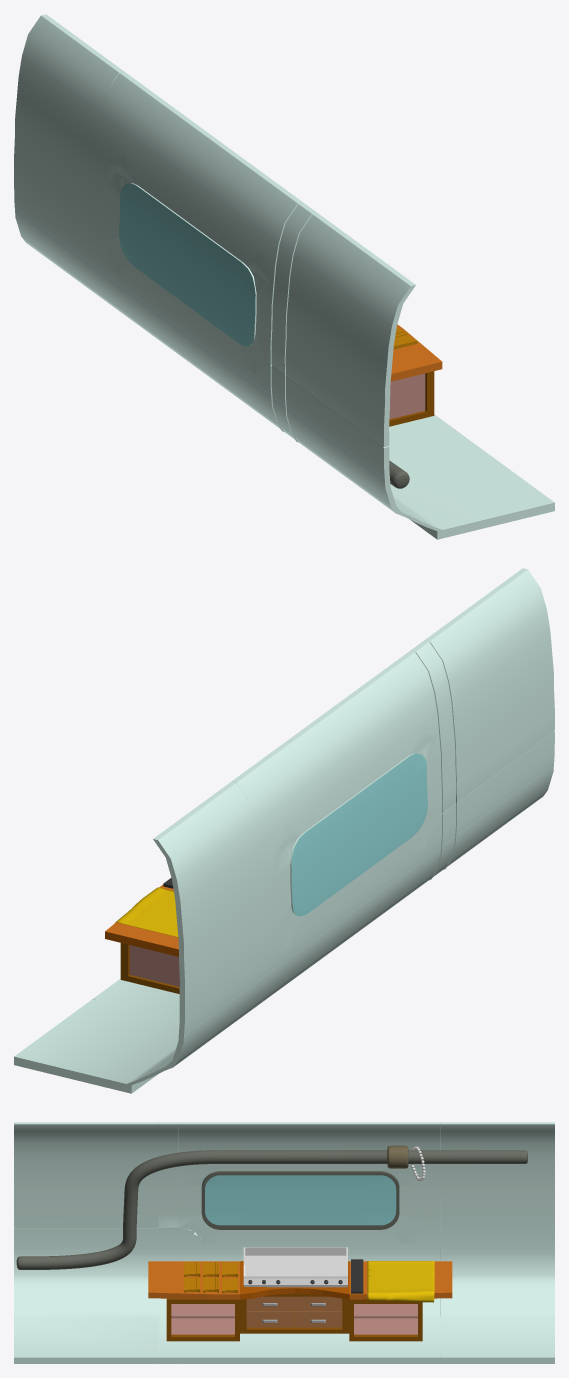
File: ESCENARIO RESTAURANTE.fbx
3 renders of one model, top to bottom at view 1: azimuth 30°, elevation 25°; view 2: azimuth 150°, elevation 25°; view 3: azimuth 270°, elevation 25°, orthographic. The views are drawn at different scales.
Parts seen in each view (by area): view 1: Submarino.001, Mesa de cocina; view 2: Submarino.001, Mesa de cocina, Mantel; view 3: Submarino.001, Mesa de cocina, Parilla, Mantel, Plane.001, Tablas de la cocina.
Boxes of the visible parts, x1,y1,x2,y2 form: Submarino.001: (14, 14, 554, 539); Mesa de cocina: (389, 324, 442, 426); Submarino.001: (14, 568, 554, 1093); Mesa de cocina: (105, 878, 179, 993); Mantel: (115, 887, 178, 937); Submarino.001: (14, 1122, 554, 1363); Mesa de cocina: (148, 1259, 452, 1341); Parilla: (243, 1247, 347, 1287); Mantel: (367, 1261, 434, 1302); Plane.001: (201, 1171, 399, 1229); Tablas de la cocina: (184, 1261, 237, 1293).
Bounding box in the file's own units: 1806 × 2604 × 6714.
